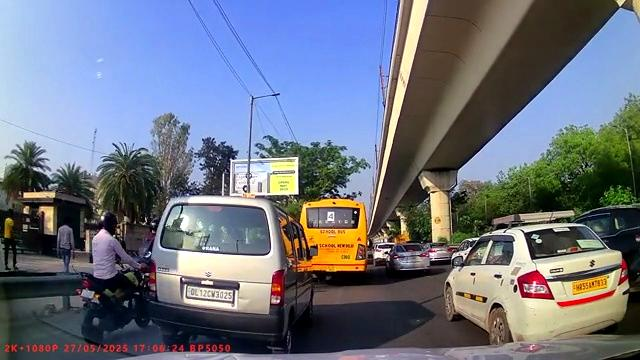motorcycle_with_helmet: (78, 209, 150, 341)
